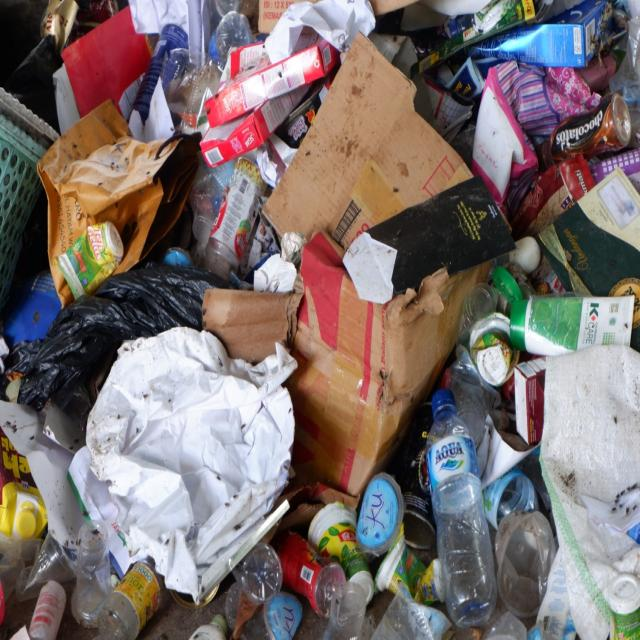GelasPlastik: (494, 501, 558, 615), (311, 493, 373, 601), (466, 282, 515, 388), (72, 520, 120, 628), (56, 220, 122, 296), (354, 470, 405, 549), (19, 530, 72, 598), (243, 594, 305, 640), (326, 587, 366, 640)
